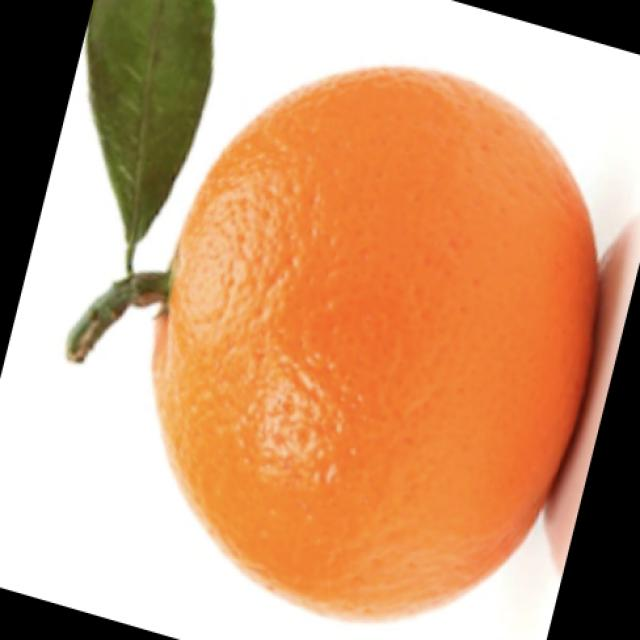fresh: (74, 2, 611, 631)
